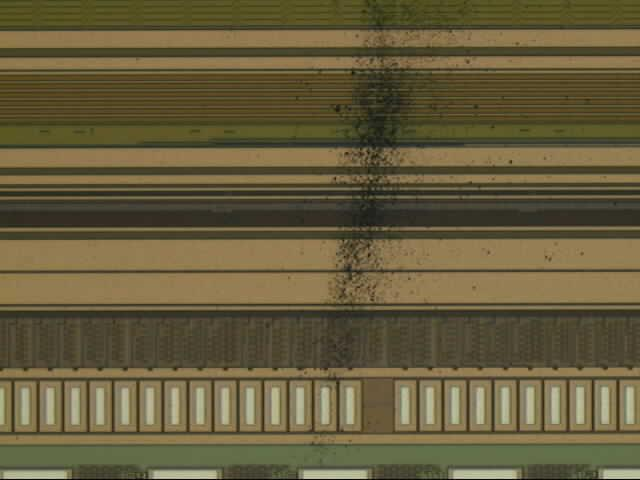PO CONTAMINATION: (30, 1, 622, 480)
